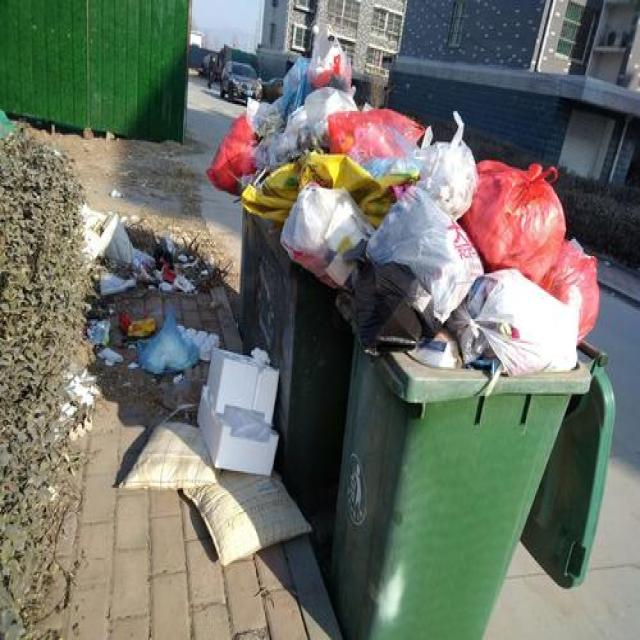garbage: (72, 200, 312, 563)
overflow: (334, 106, 613, 638), (206, 34, 430, 550)
